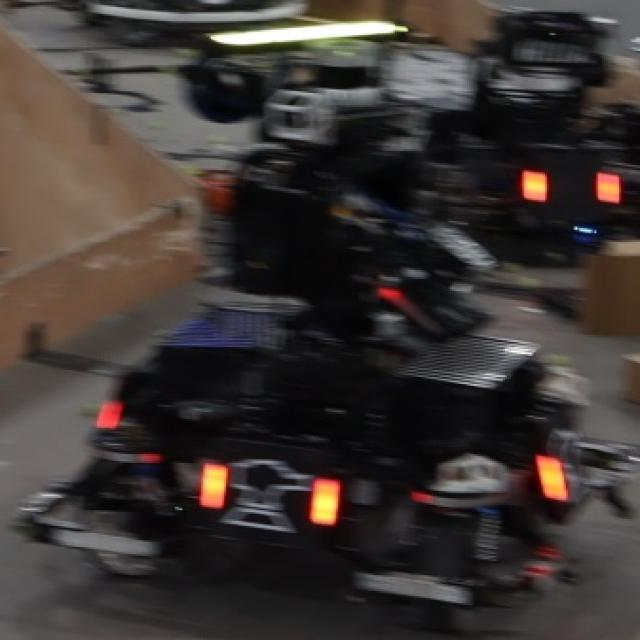Rs: (201, 447, 340, 542), (536, 402, 592, 512)
